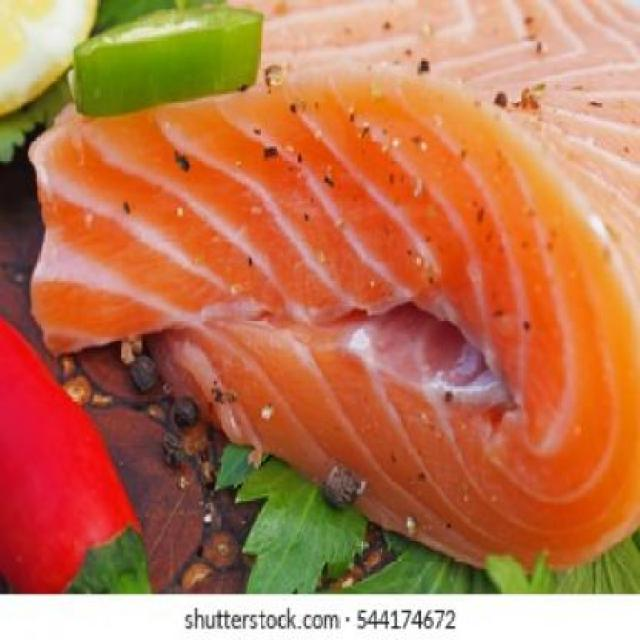salmon: (27, 1, 640, 582)
